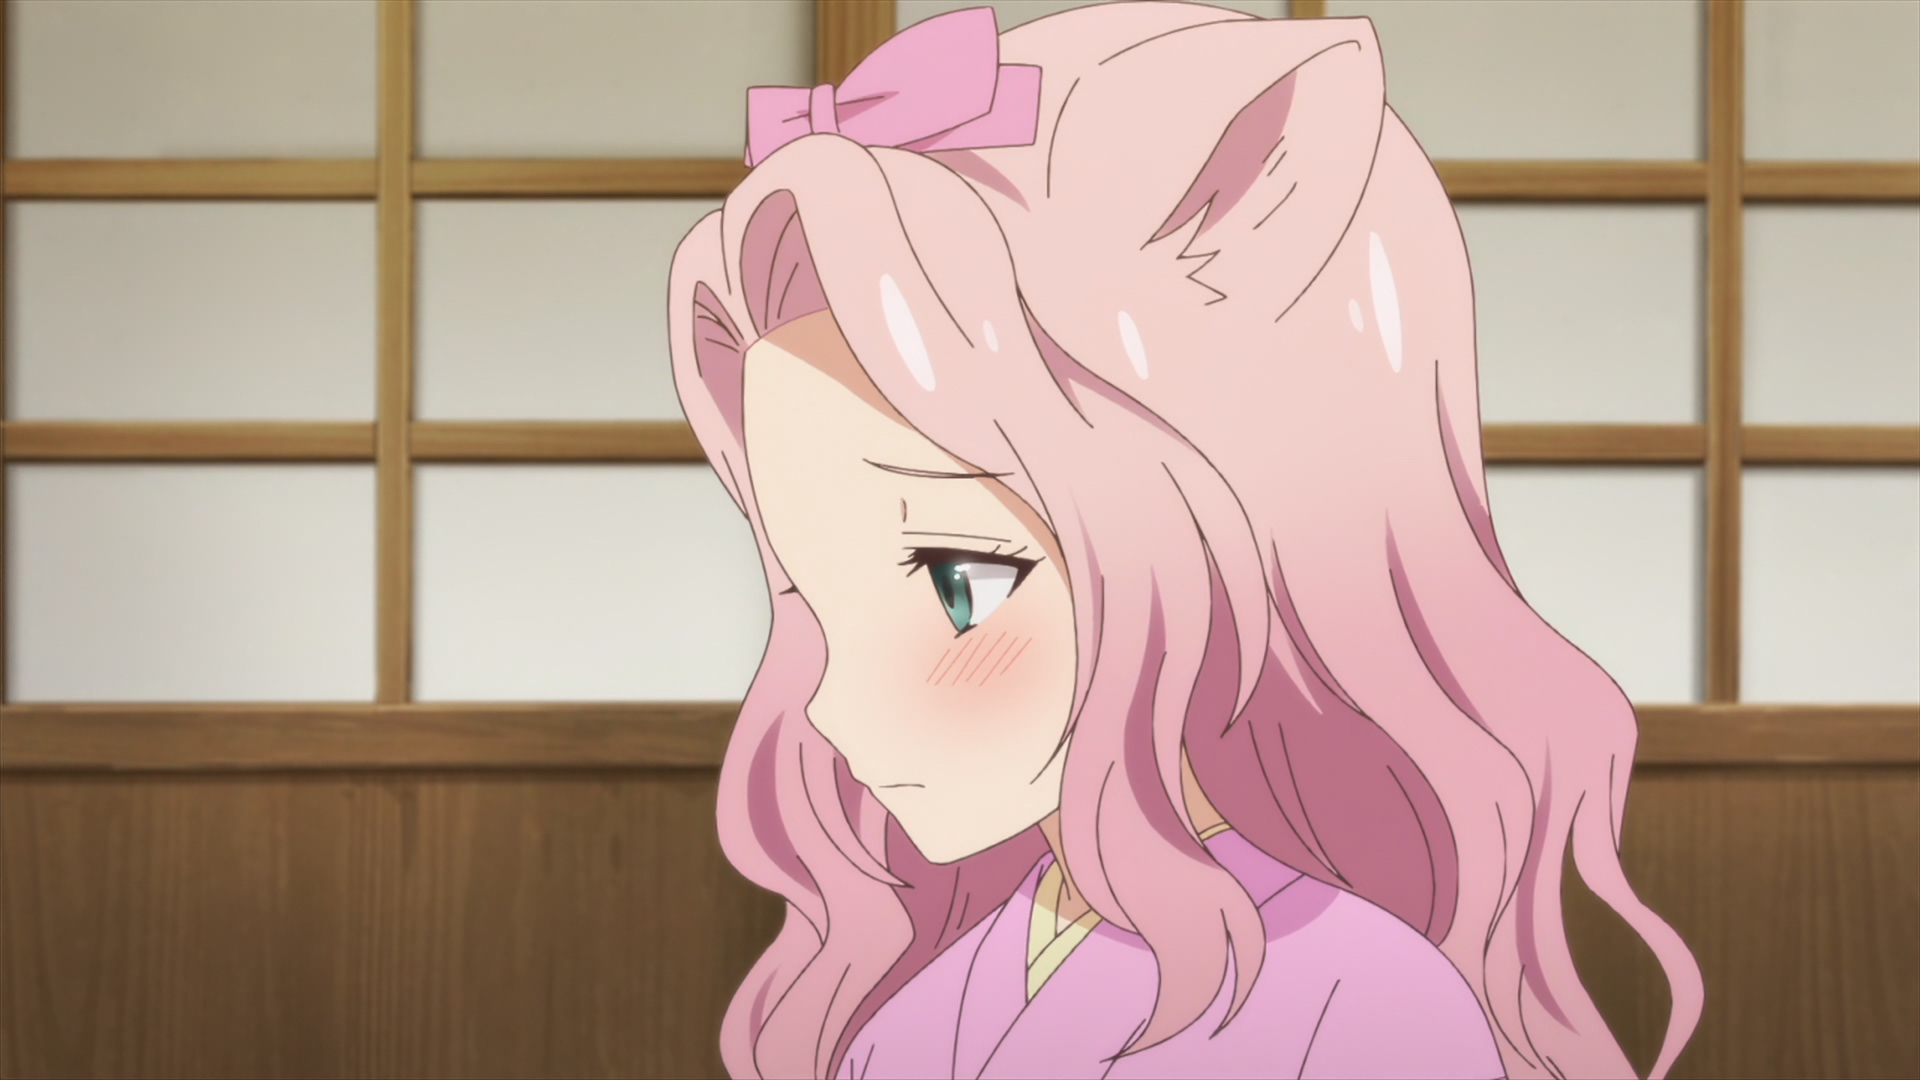莲: (666, 1, 1705, 1080)
